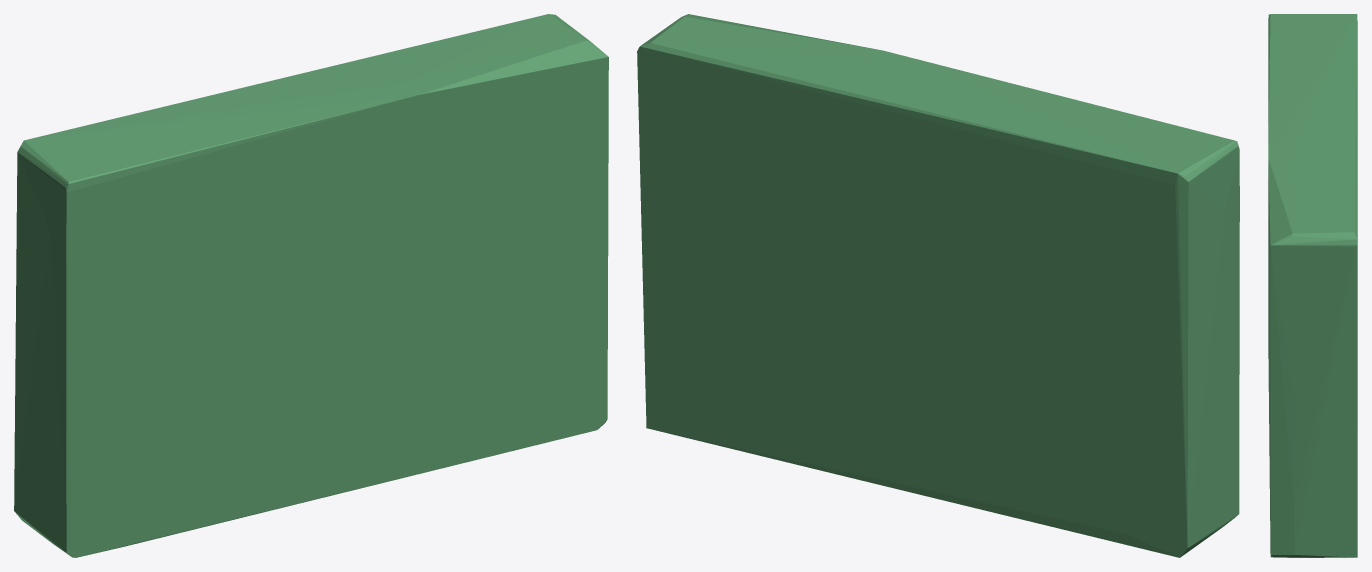
File: crate_red_a19.glb
3 views of the same model, side by side, from view 1: azimuth 30°, elevation 25°; view 2: azimuth 150°, elevation 25°; view 3: azimuth 270°, elevation 25° (orthographic). The views are drawn at different scales.
Parts seen in each view (by area): view 1: geometry_0; view 2: geometry_0; view 3: geometry_0.
Part boxes in pixels (x1,y1,x2,y2): geometry_0: [14, 14, 608, 557]; geometry_0: [637, 14, 1239, 557]; geometry_0: [1268, 14, 1357, 557].
Size of the model in its own units: 0.48 by 0.3206 by 0.0798.
